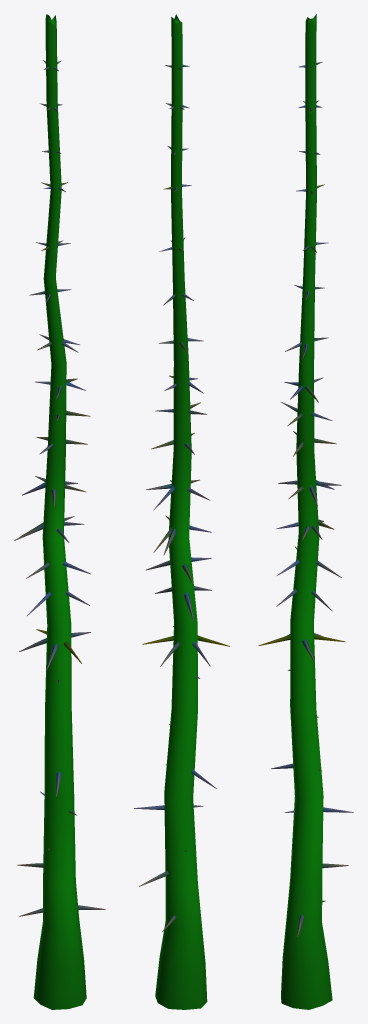
The model's file is snag_a.glb.
The picture shows the model from 3 angles, left to right: view 1: azimuth 90°, elevation 25°; view 2: azimuth 150°, elevation 25°; view 3: azimuth 330°, elevation 25°; orthographic projection.
Visible parts, largest first — view 1: LOD0; view 2: LOD0; view 3: LOD0.
Boxes of the visible parts, x1,y1,x2,y2 form: LOD0: (14, 14, 105, 1009); LOD0: (134, 14, 229, 1009); LOD0: (258, 14, 353, 1009).
Size of what is drawn, in the model's own units: 1.13 by 14.18 by 1.2.
